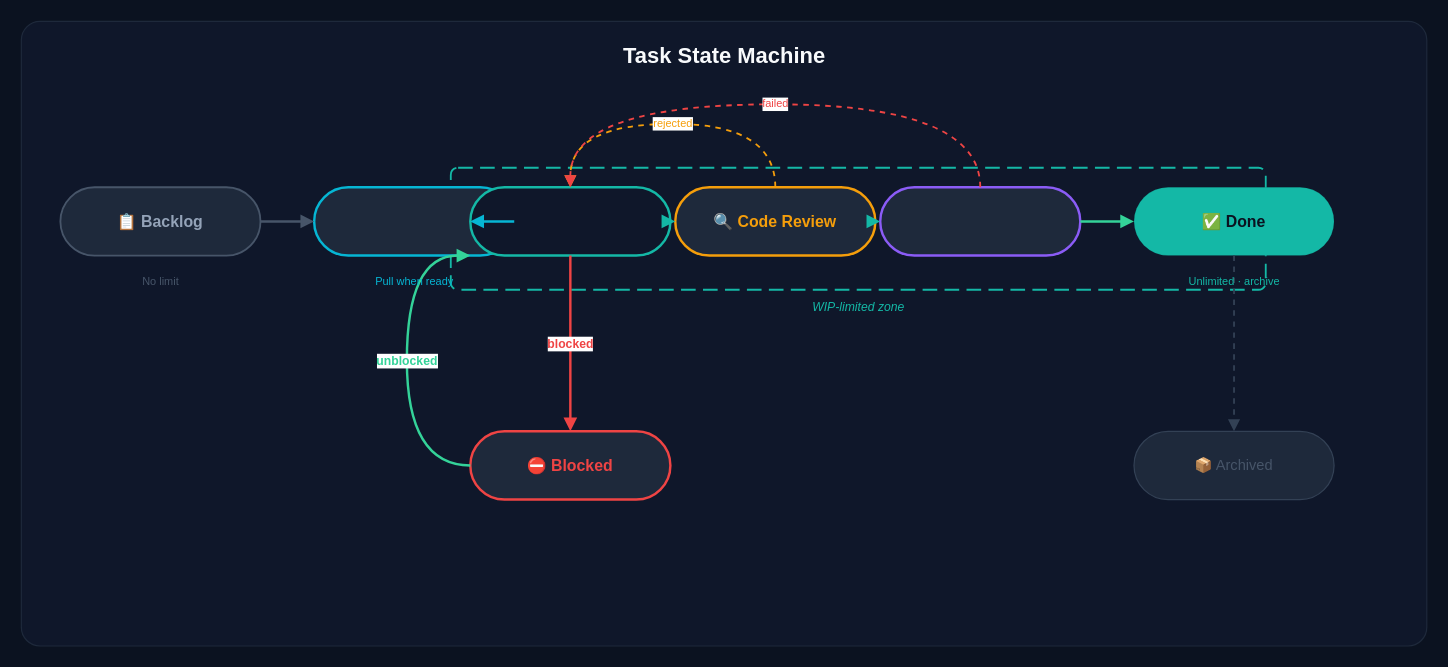
This 1448x667 diagram has some shape labels left out. Each missing label, with the box of its shape:
⚡ In Progress: (468, 185, 671, 256)
✓ Ready: (312, 185, 515, 256)
🧪 Validation: (878, 185, 1081, 256)
